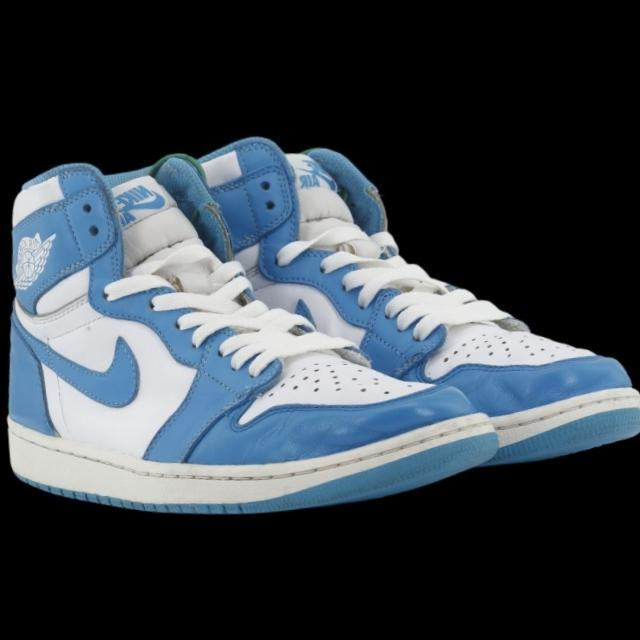nike original jordan 1: (0, 131, 500, 538), (176, 111, 640, 489)
